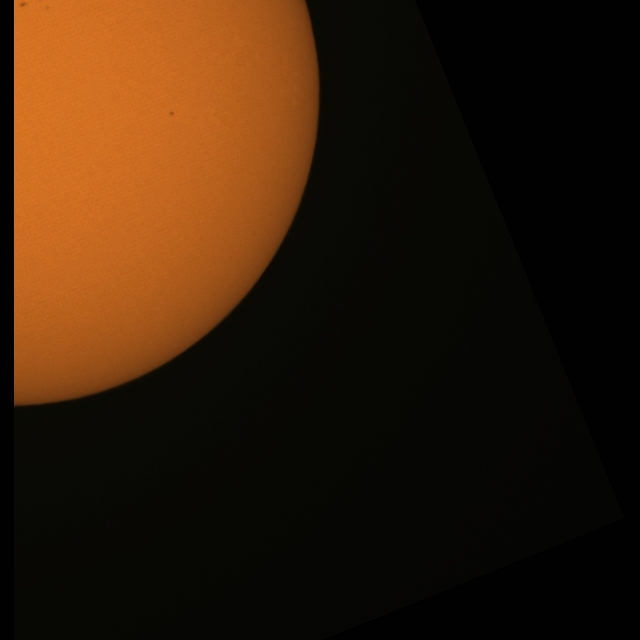sunspot: (18, 0, 29, 9), (168, 110, 176, 117), (44, 4, 50, 12)
